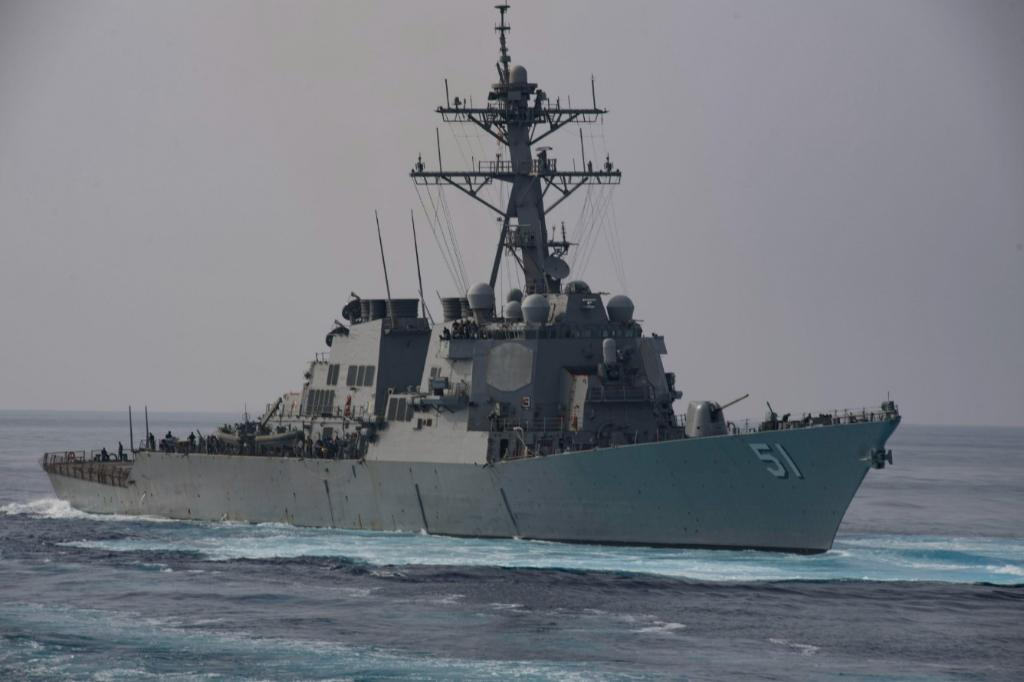Warship: (29, 1, 903, 547)
